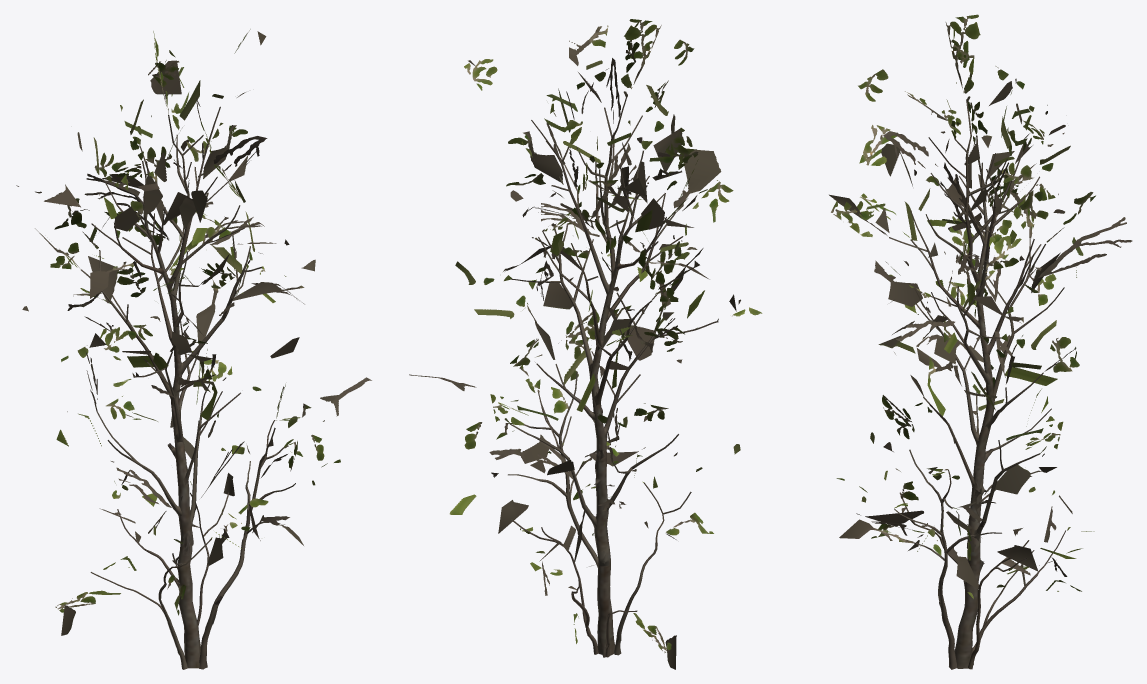
Rendered from SM_BlackAlder_Forest_07_PP_LOD3.gltf.
The picture shows the model from 3 angles, left to right: view 1: azimuth 30°, elevation 25°; view 2: azimuth 150°, elevation 25°; view 3: azimuth 270°, elevation 25°; orthographic projection.
Parts seen in each view (by area): view 1: SM_BlackAlder_Forest_07_PP; view 2: SM_BlackAlder_Forest_07_PP; view 3: SM_BlackAlder_Forest_07_PP.
Part boxes in pixels (x1=…): SM_BlackAlder_Forest_07_PP: x1=16, y1=29, x2=371, y2=669; SM_BlackAlder_Forest_07_PP: x1=409, y1=19, x2=762, y2=669; SM_BlackAlder_Forest_07_PP: x1=829, y1=14, x2=1132, y2=669.
Size of the model in its own units: 4.48 by 8.26 by 3.64.
Materials: 3 (3 with a texture image).
